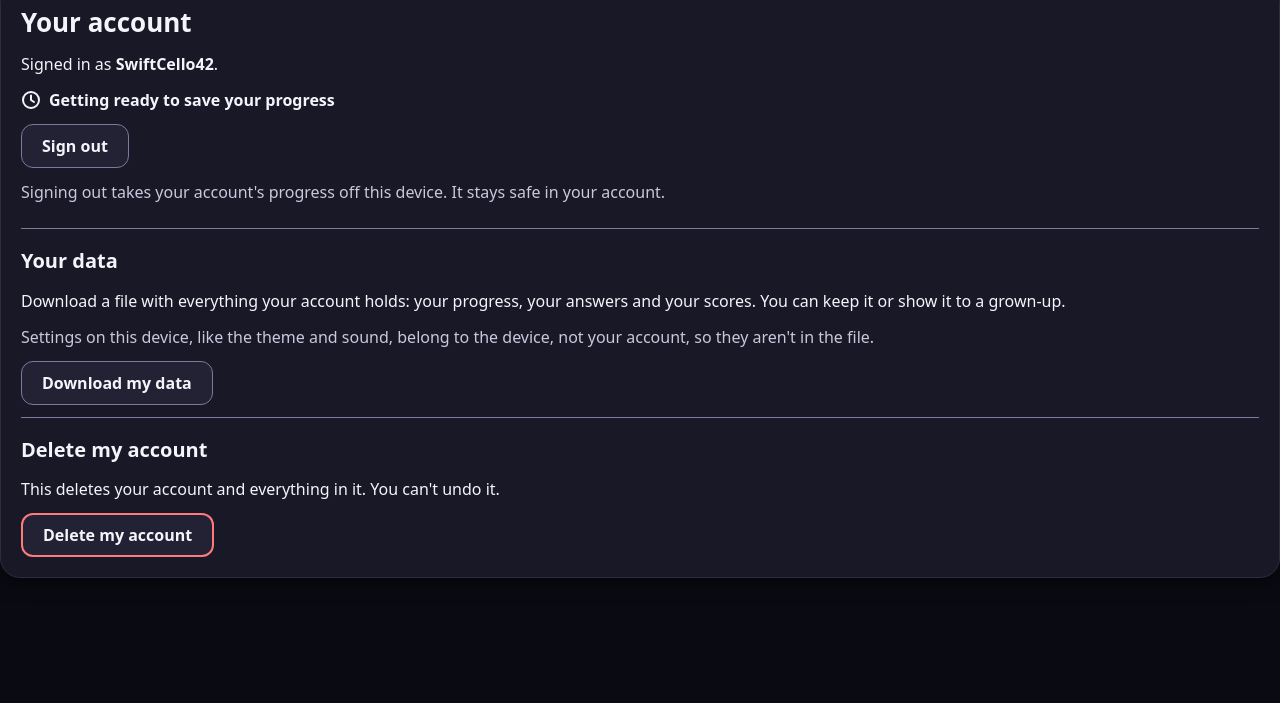
Test: Delete my account: two steps › step 1 lists what goes, warns it cannot be undone, and puts focus on the safe choice
This screenshot has width=1280, height=703.
Expected: the text "SwiftCello42" is shown, [116,53,214,75]
Click the button "Delete my account" at x=118, y=535, box [21,513,214,557]
(page scrolled)
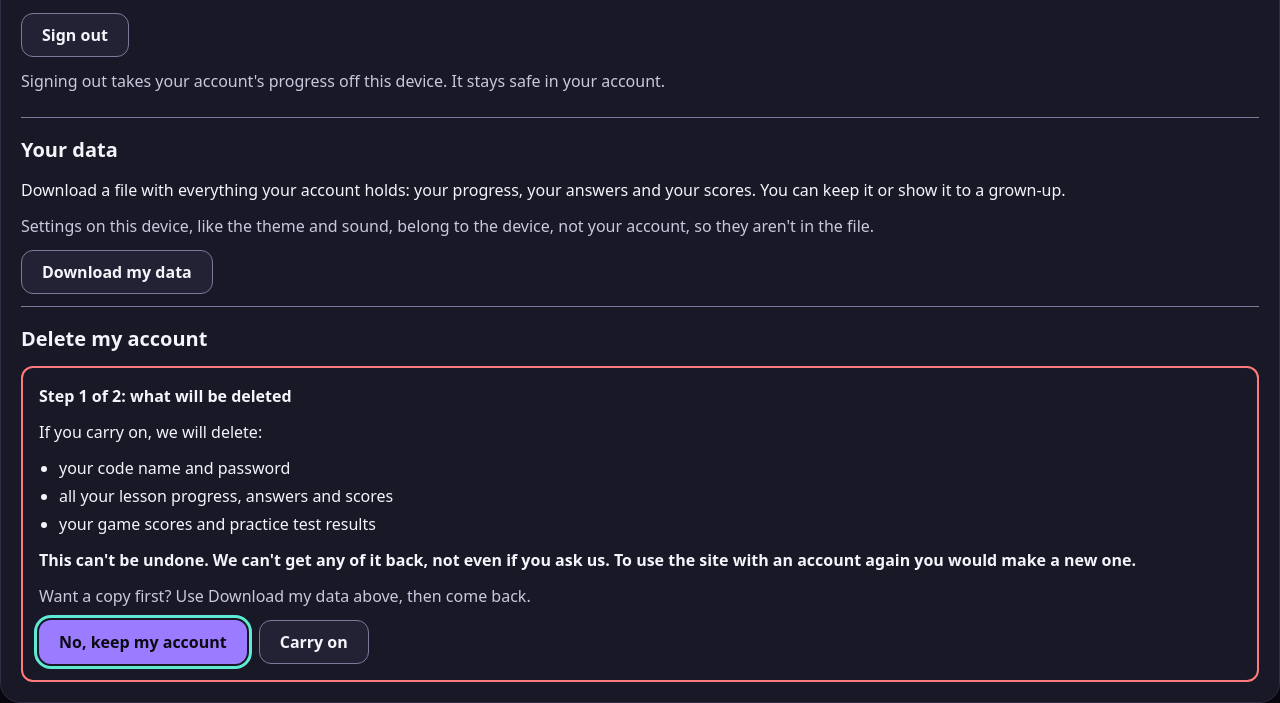
Expected: the element "Step 1 of 2" shows "your code name and password", [59,457,290,479]
Expected: the element "Step 1 of 2" shows "all your lesson progress, answers and scores", [59,485,393,507]
Expected: the element "Step 1 of 2" shows "This can't be undone", [39,549,1136,571]
